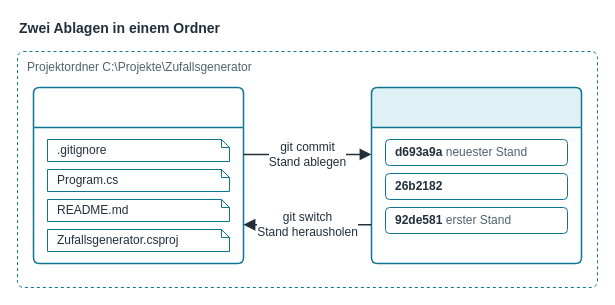
This 615x305 diagram has some shape labels left out. Each missing label, with the box of its shape:
Arbeitsordner ein Stand: der, an dem du arbeitest: (32, 86, 244, 264)
Repository: Ordner .git alle abgelegten Stände: (370, 86, 582, 264)
